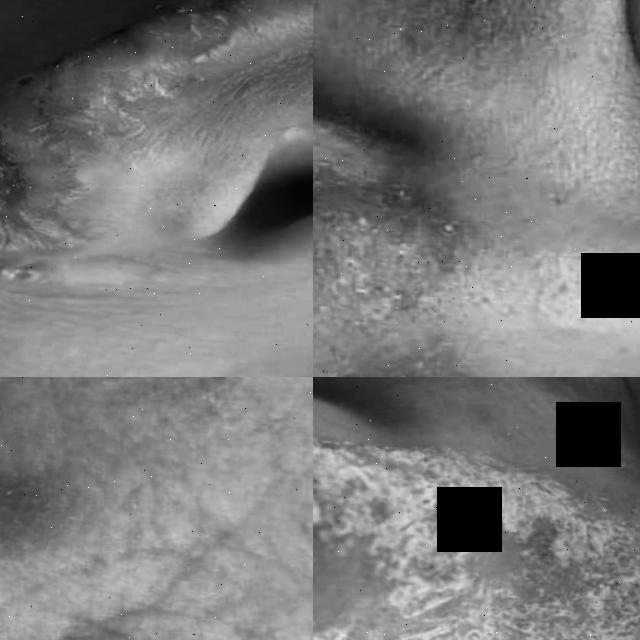lupus-detected: (313, 377, 640, 640), (0, 0, 267, 303), (313, 0, 624, 167), (313, 129, 490, 377), (0, 377, 120, 598)
